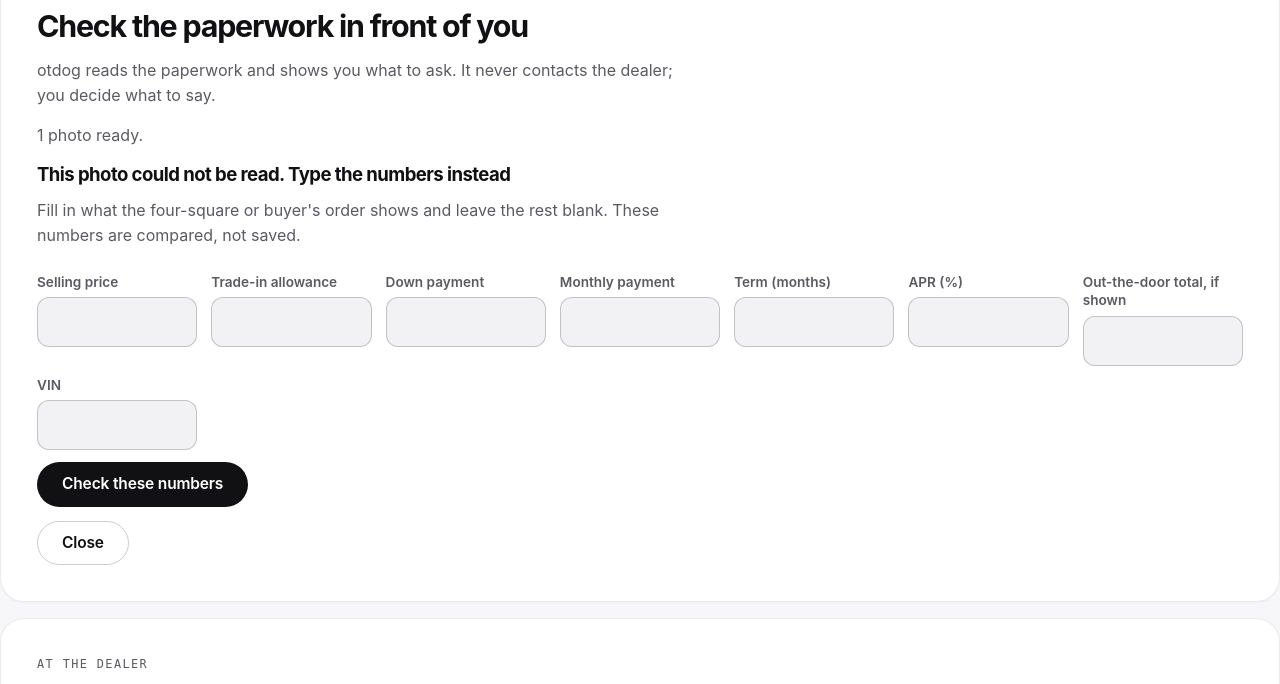
Test case: typed amounts that are not numbers are refused in place without contacting the service
The image size is (1280, 684).
(page scrolled)
Step 1. Type "about 25k" into the field labelled "Selling price" → (117, 322), box [37,297,197,347]
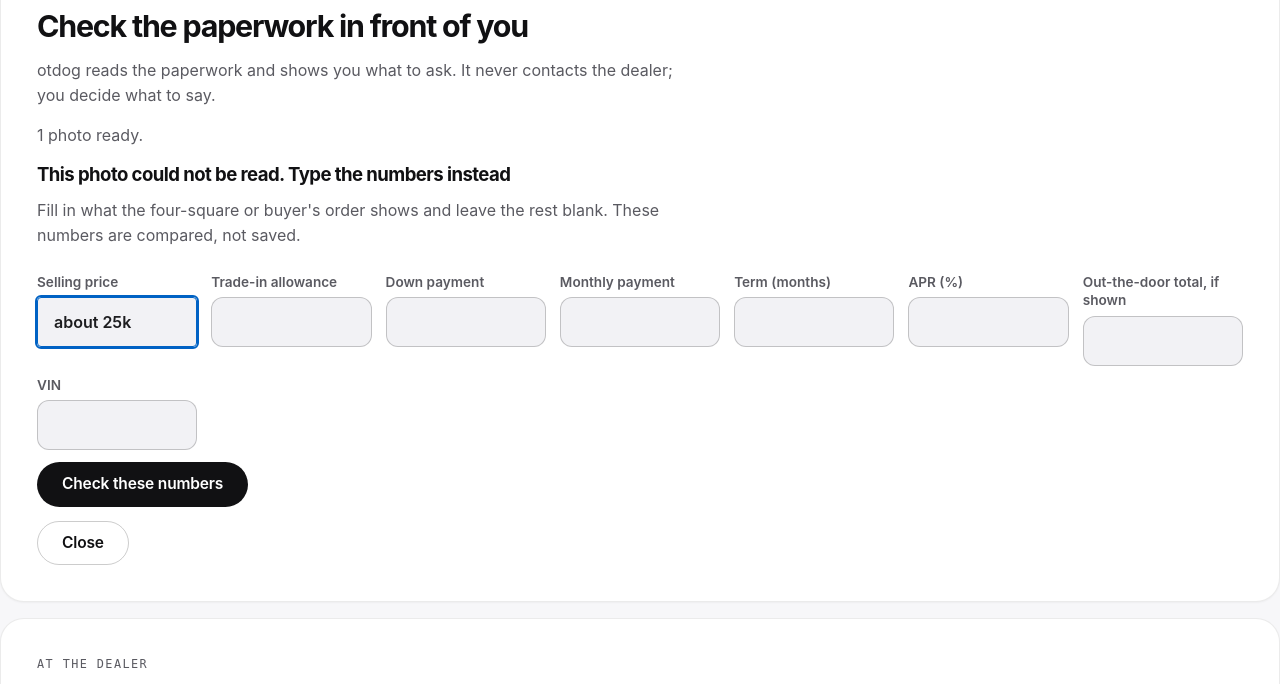
Step 2. Click the button "Check these numbers" → (143, 484), box [37,462,248,507]
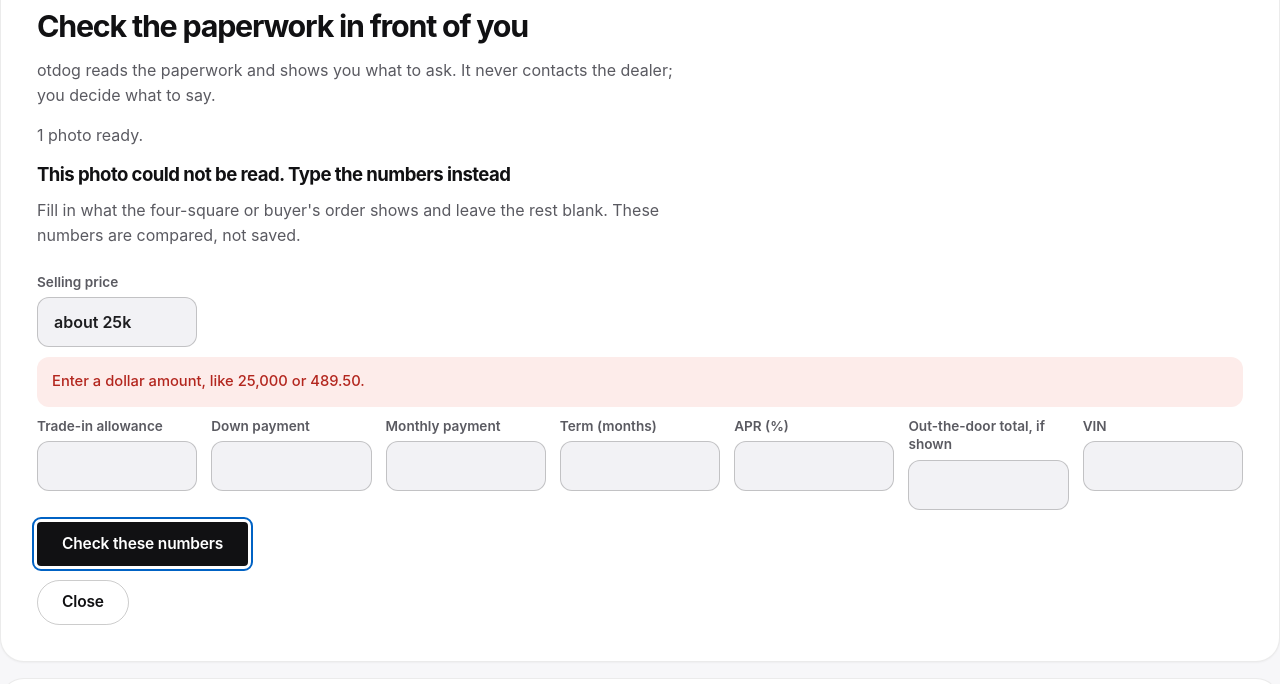
Expected: the message shows "Enter a dollar amount", [52,372,365,390]
